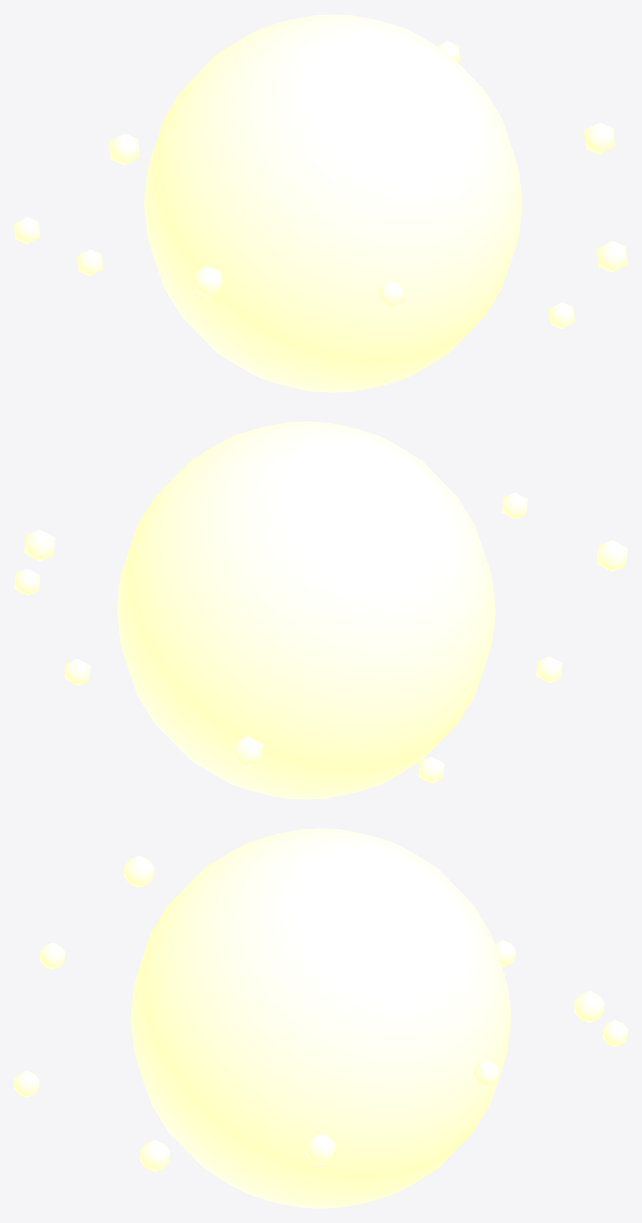
Rendered from fire-sun.glb.
The picture shows the model from 3 angles, top to bottom: view 1: azimuth 30°, elevation 25°; view 2: azimuth 150°, elevation 25°; view 3: azimuth 270°, elevation 25°; orthographic projection.
Parts seen in each view (by area): view 1: FireSun_Core, FireSun_Dots; view 2: FireSun_Core, FireSun_Dots; view 3: FireSun_Core, FireSun_Dots.
Boxes of the visible parts, left/top/right/bottom form: FireSun_Core: left=144, top=14, right=522, bottom=392; FireSun_Dots: left=14, top=41, right=627, bottom=328; FireSun_Core: left=117, top=421, right=495, bottom=799; FireSun_Dots: left=14, top=492, right=627, bottom=783; FireSun_Core: left=130, top=828, right=511, bottom=1208; FireSun_Dots: left=14, top=855, right=627, bottom=1171.
Size of the model in its own units: 1 by 0.6134 by 0.989.
